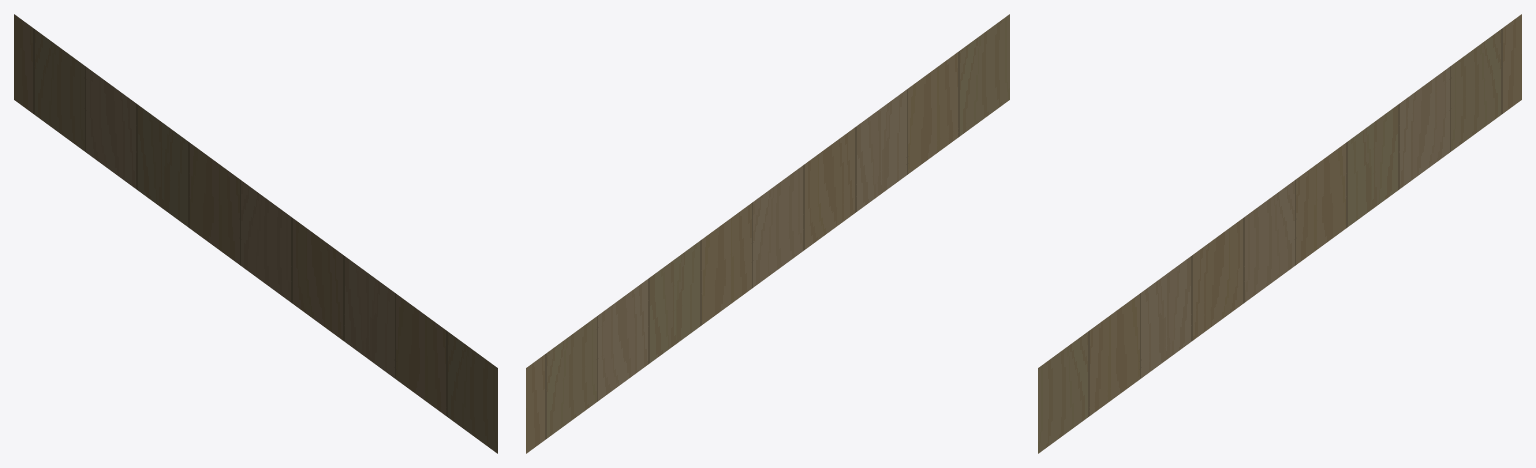
Rendered from kd_stage_135b75_4_73_bounded.glb.
3 views of the same model, side by side, from view 1: azimuth 30°, elevation 25°; view 2: azimuth 150°, elevation 25°; view 3: azimuth 330°, elevation 25° (orthographic).
Visible parts, largest first — view 1: kd_stage_135b75_4_73_bounded; view 2: kd_stage_135b75_4_73_bounded; view 3: kd_stage_135b75_4_73_bounded.
Part boxes in pixels (left/top/right/bottom): kd_stage_135b75_4_73_bounded: left=14, top=14, right=497, bottom=453; kd_stage_135b75_4_73_bounded: left=526, top=14, right=1009, bottom=453; kd_stage_135b75_4_73_bounded: left=1038, top=14, right=1521, bottom=453.
Size of the model in its own units: 0 by 0.0795 by 0.812.
Materials: 1 (1 with a texture image).
